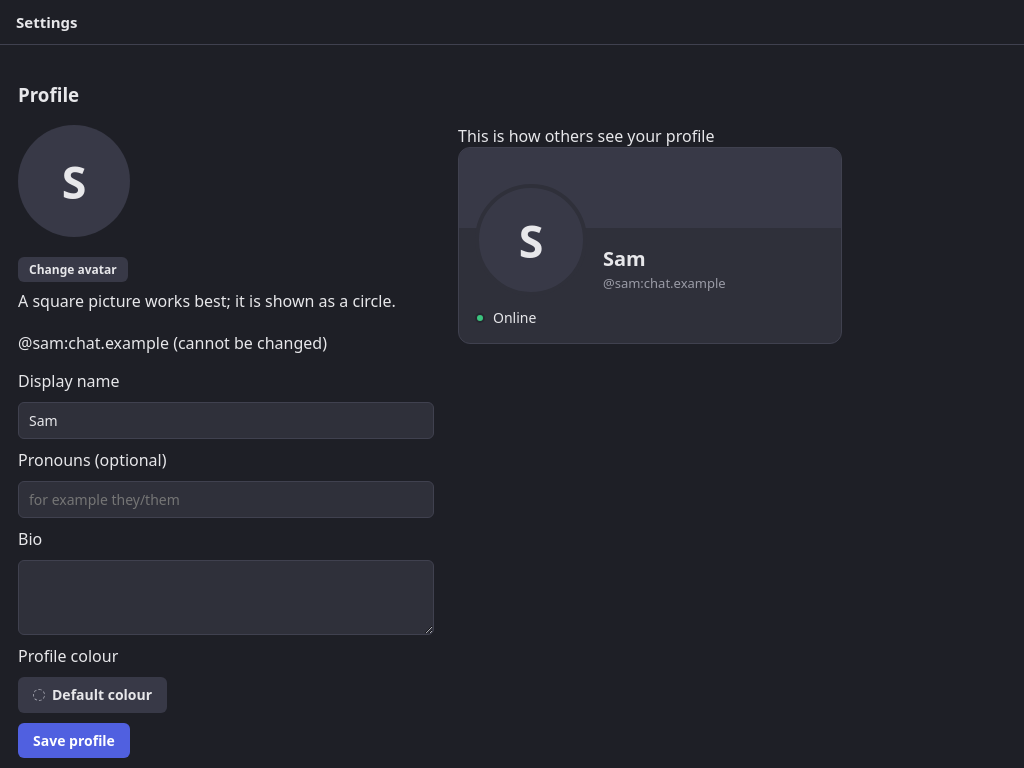
Test: Settings -> Profile › shows a live preview of the card others see, which follows what is typed before it is saved
Expected: the heading "Sam" is shown, [603,245,646,272]
Expected: the text "About" is not shown
Step 1. Replace the text in the field showing "Sam" with "Samantha" → [226, 421], box [18,402,434,439]
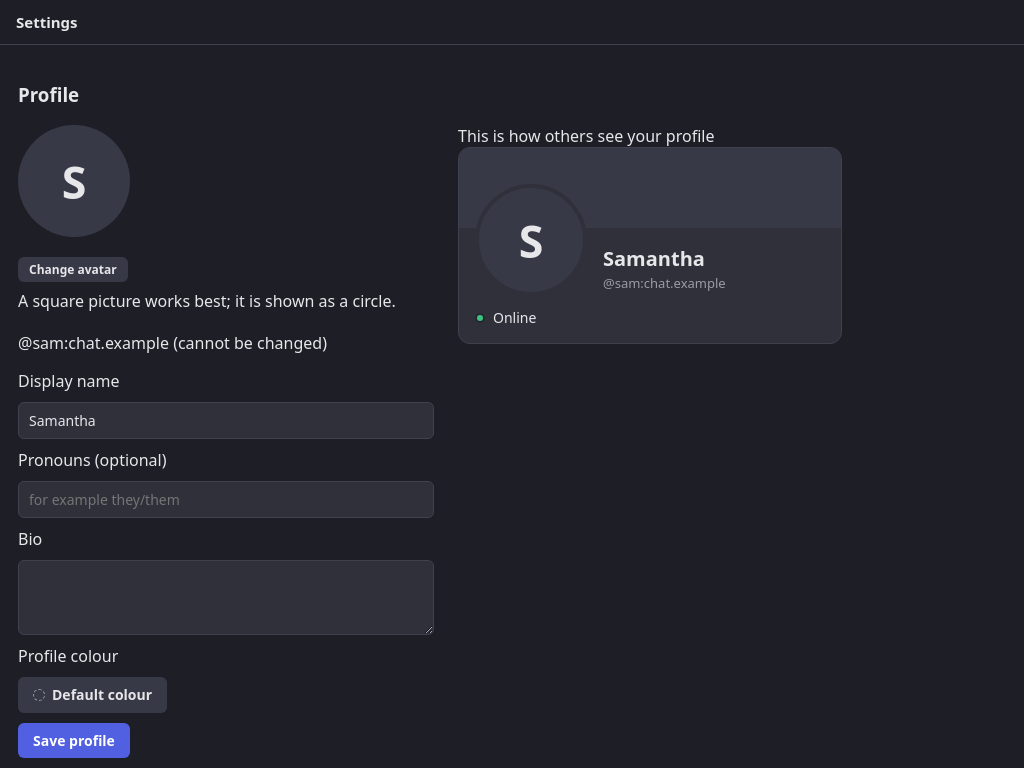
Step 2. Type "she/her" into the field labelled "Pronouns (optional)" → [226, 500], box [18,481,434,518]
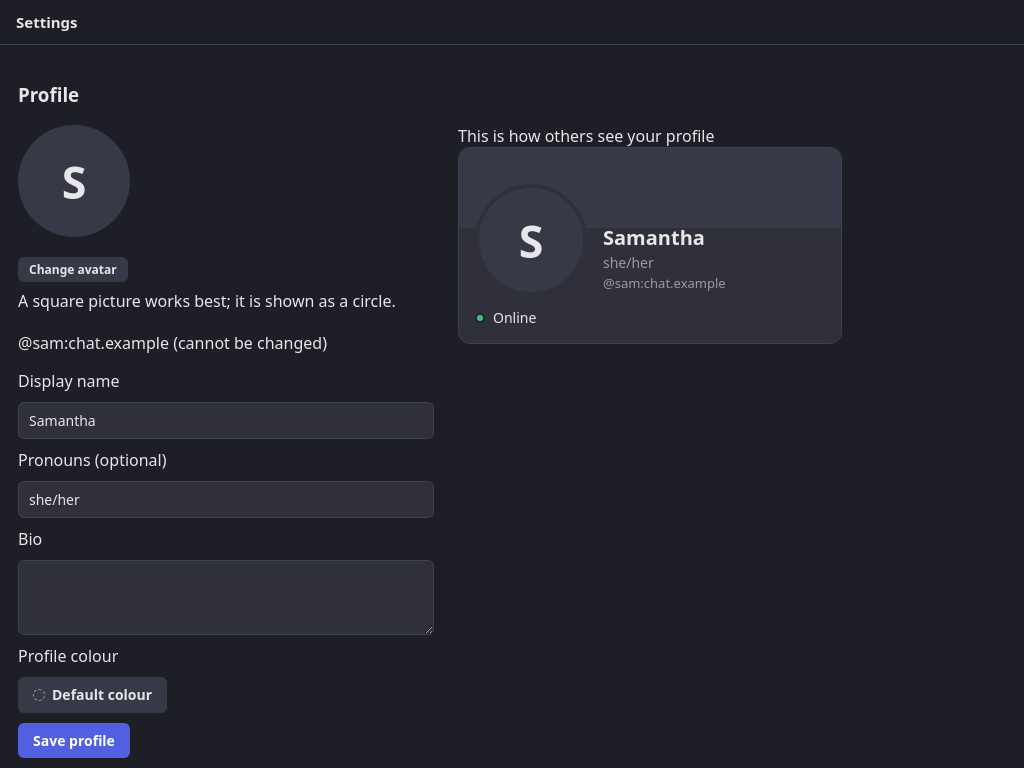
Step 3. Type "Cartographer" into the text box labelled "Bio" → [226, 598], box [18,560,434,635]
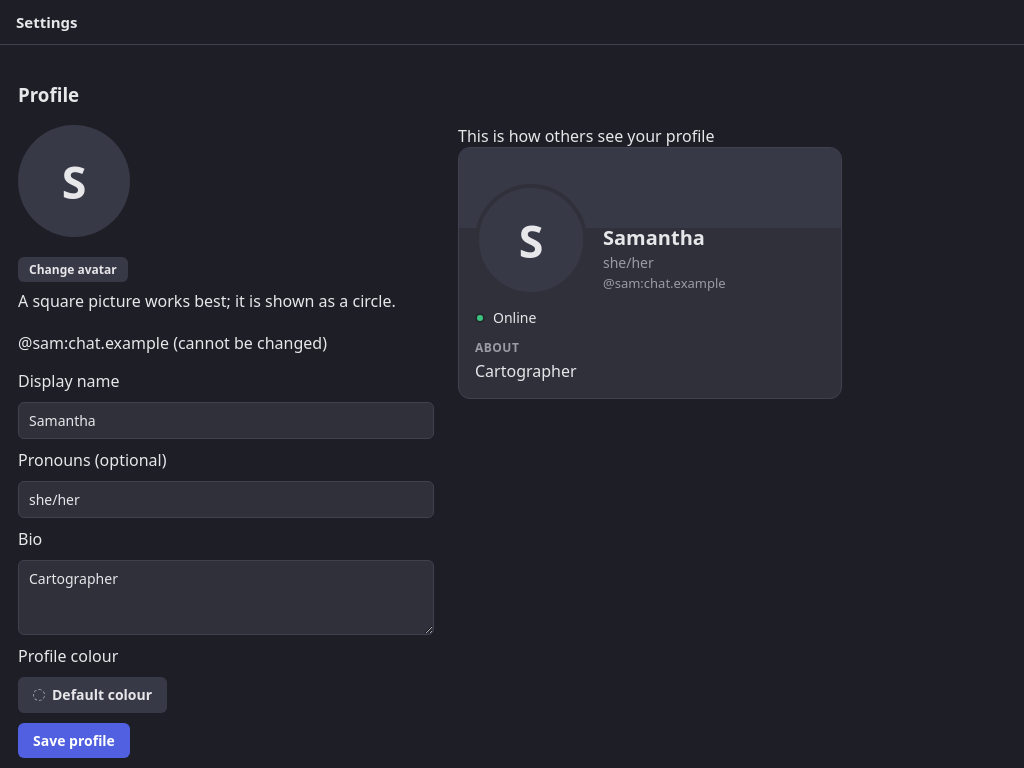
Expected: the heading "Samantha" is shown, [603,224,705,251]
Expected: the text "she/her" is shown, [603,253,654,272]
Expected: the text "Cartographer" is shown, [475,360,577,382]
